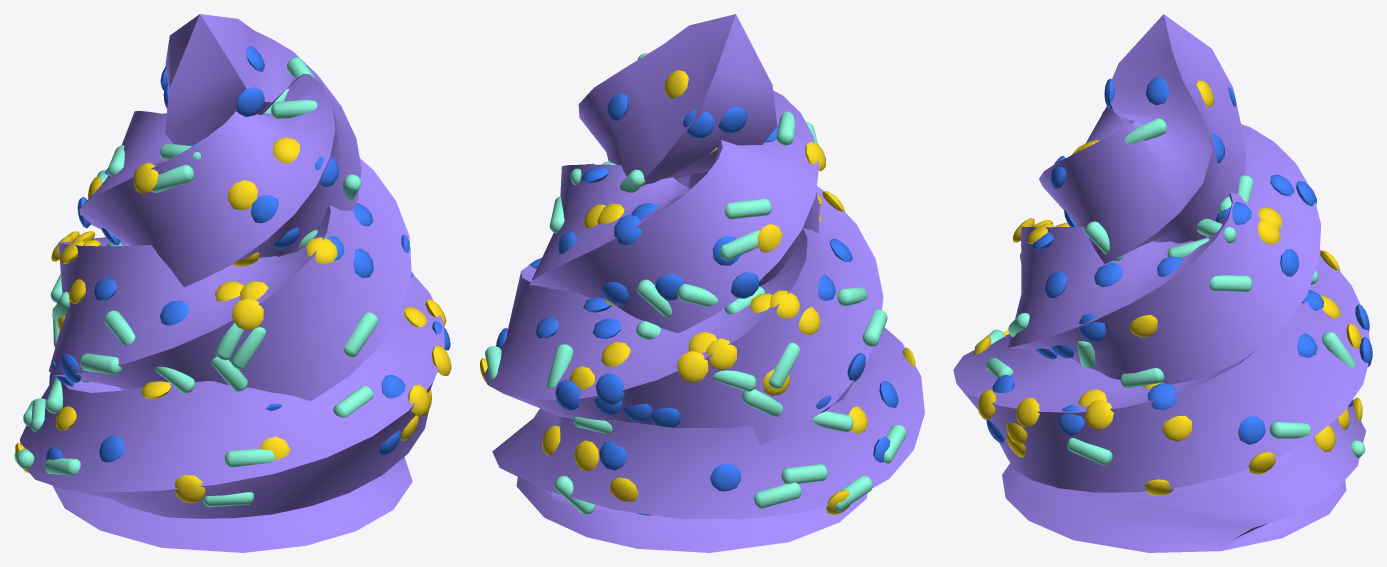
Rendered from Ice Cream Hat P.001.fbx.
3 views of the same model, side by side, from view 1: azimuth 30°, elevation 25°; view 2: azimuth 150°, elevation 25°; view 3: azimuth 270°, elevation 25° (orthographic). The views are drawn at different scales.
Parts seen in each view (by area): view 1: Ice Cream Hat P.001; view 2: Ice Cream Hat P.001; view 3: Ice Cream Hat P.001.
Boxes of the visible parts, bbox=[...] form: Ice Cream Hat P.001: bbox=[14, 14, 451, 552]; Ice Cream Hat P.001: bbox=[480, 14, 924, 552]; Ice Cream Hat P.001: bbox=[953, 14, 1372, 552].
Size of the model in its own units: 0.496 by 0.5946 by 0.4995.
